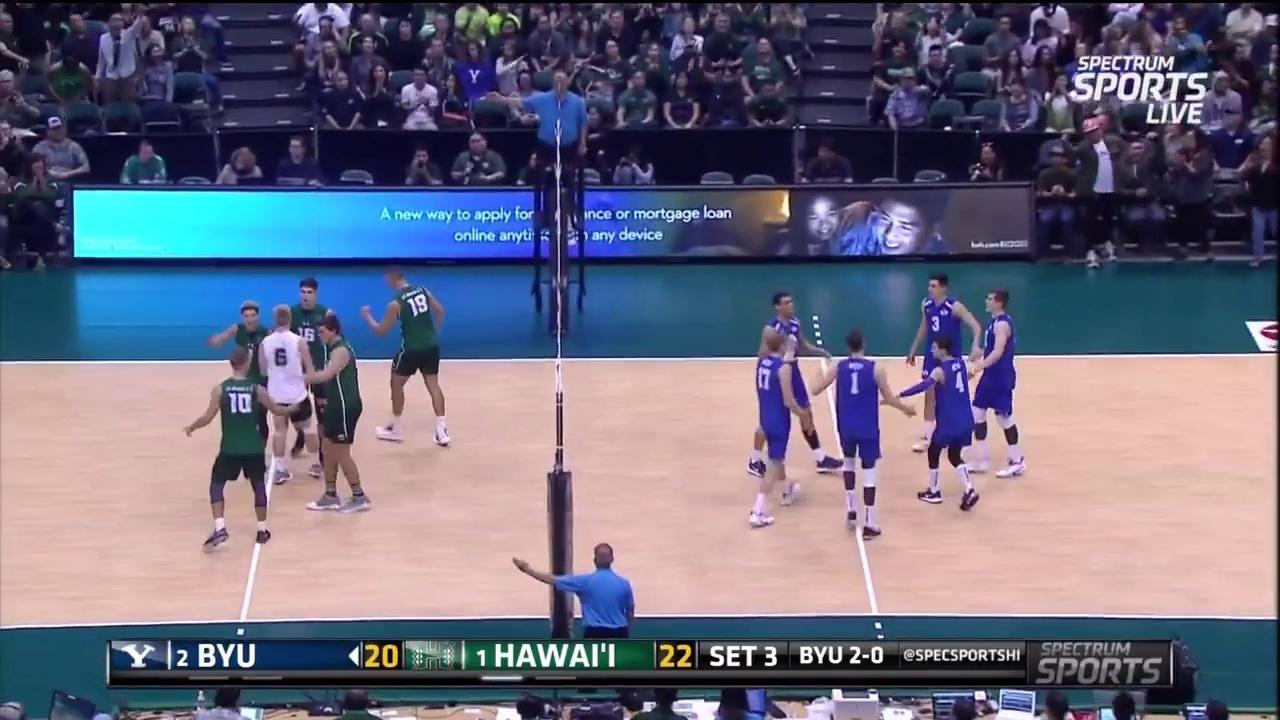player: (188, 348, 291, 552), (745, 283, 842, 471), (368, 264, 457, 447), (821, 332, 897, 540), (300, 311, 368, 510), (746, 330, 811, 530), (908, 273, 978, 457), (258, 295, 325, 486), (211, 301, 279, 480), (965, 285, 1025, 478), (913, 340, 981, 509), (279, 279, 339, 469)
refree: (522, 66, 591, 213), (545, 543, 644, 641)
